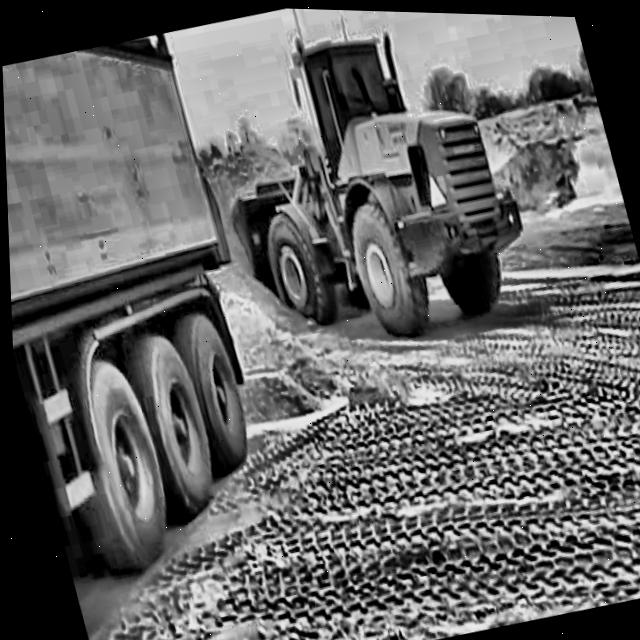buldozerpayloadergrader: (175, 4, 544, 371)
dump_truck: (1, 26, 334, 640)
